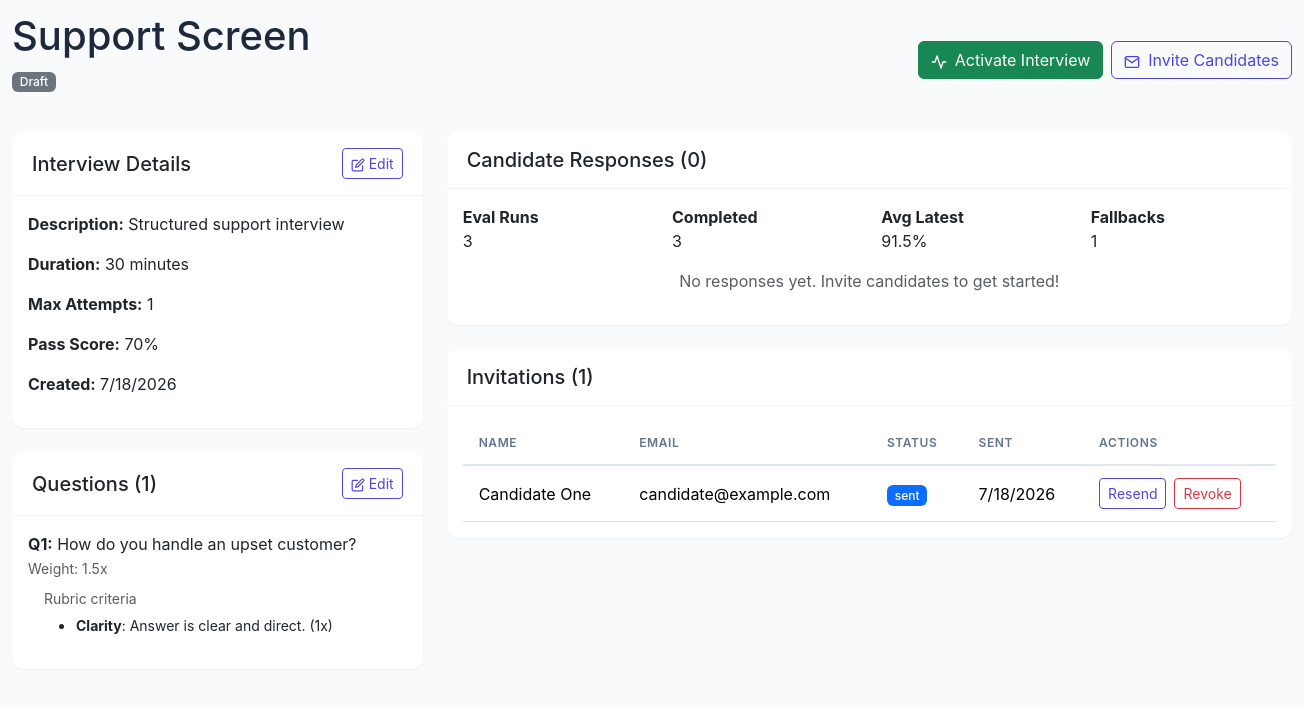
Test: InterviewDetail › updates draft interview details
Expected: the heading "Support Screen" is shown, [12,12,311,60]
Click the button "Edit" next to "Interview Details". click: {"x": 372, "y": 164}
box: [342,148,403,179]
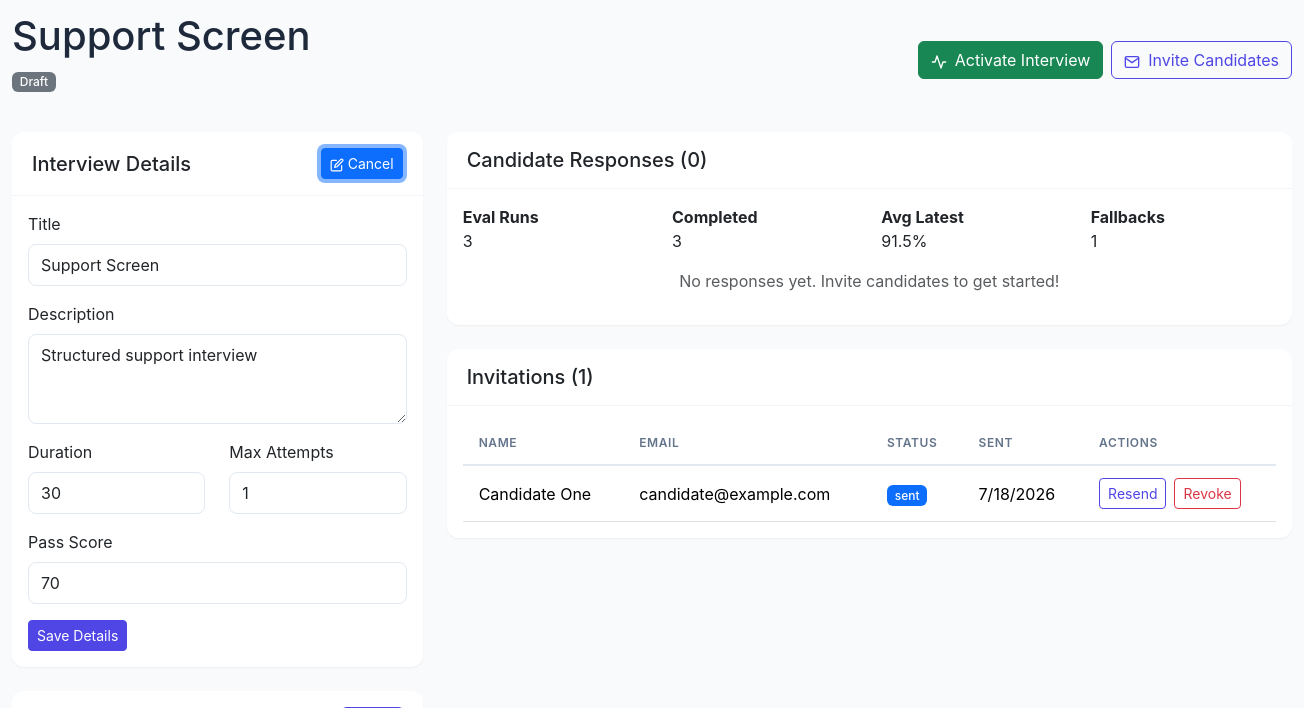
Replace the text in the field labelled "Title" with "Updated Support Screen". click: {"x": 217, "y": 265}
box: [28,244,407,286]
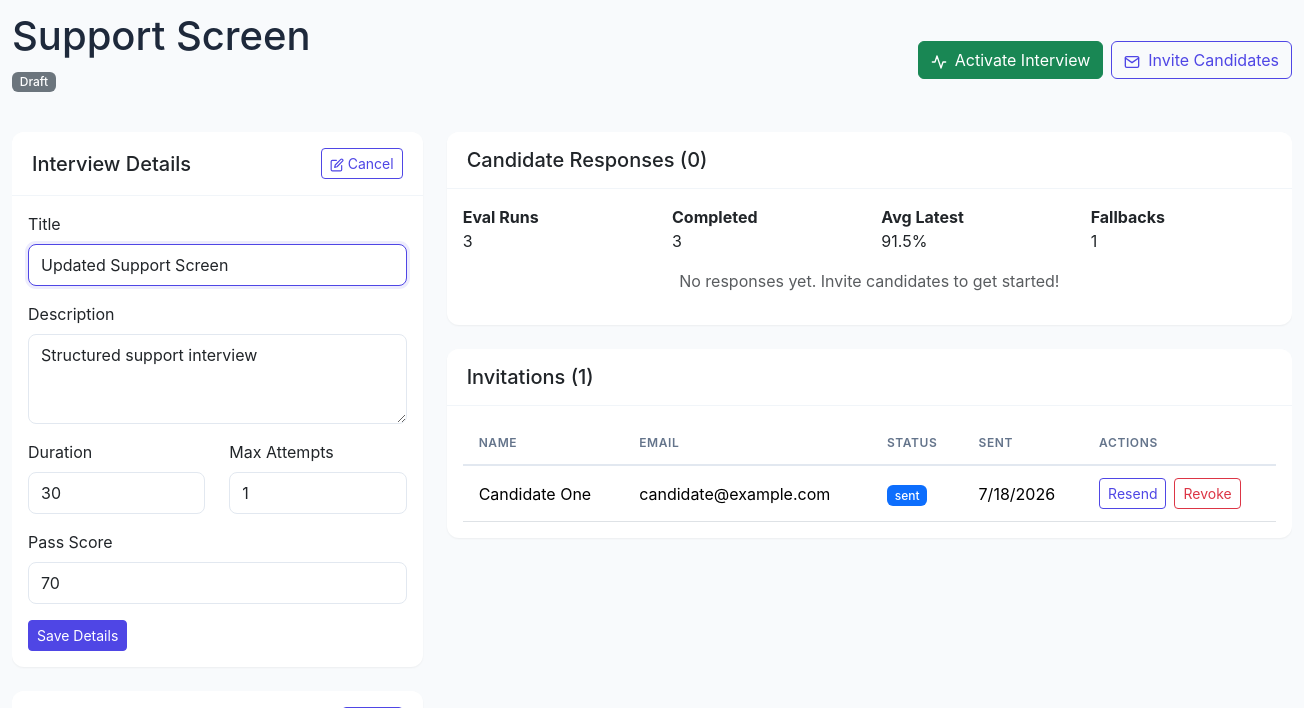
Replace the text in the number field labelled "Duration" with "45". click: {"x": 117, "y": 493}
box: [28,472,205,514]
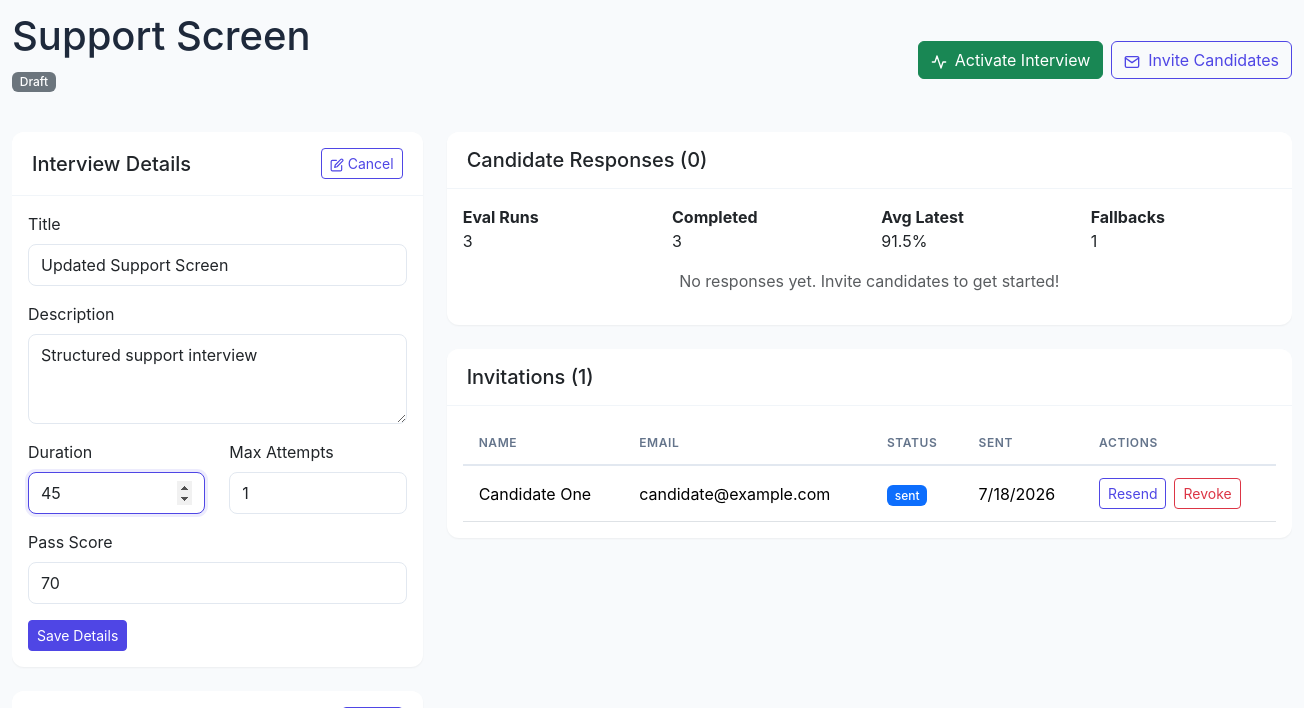
Replace the text in the number field labelled "Max Attempts" with "2". click: {"x": 318, "y": 493}
box: [229,472,407,514]
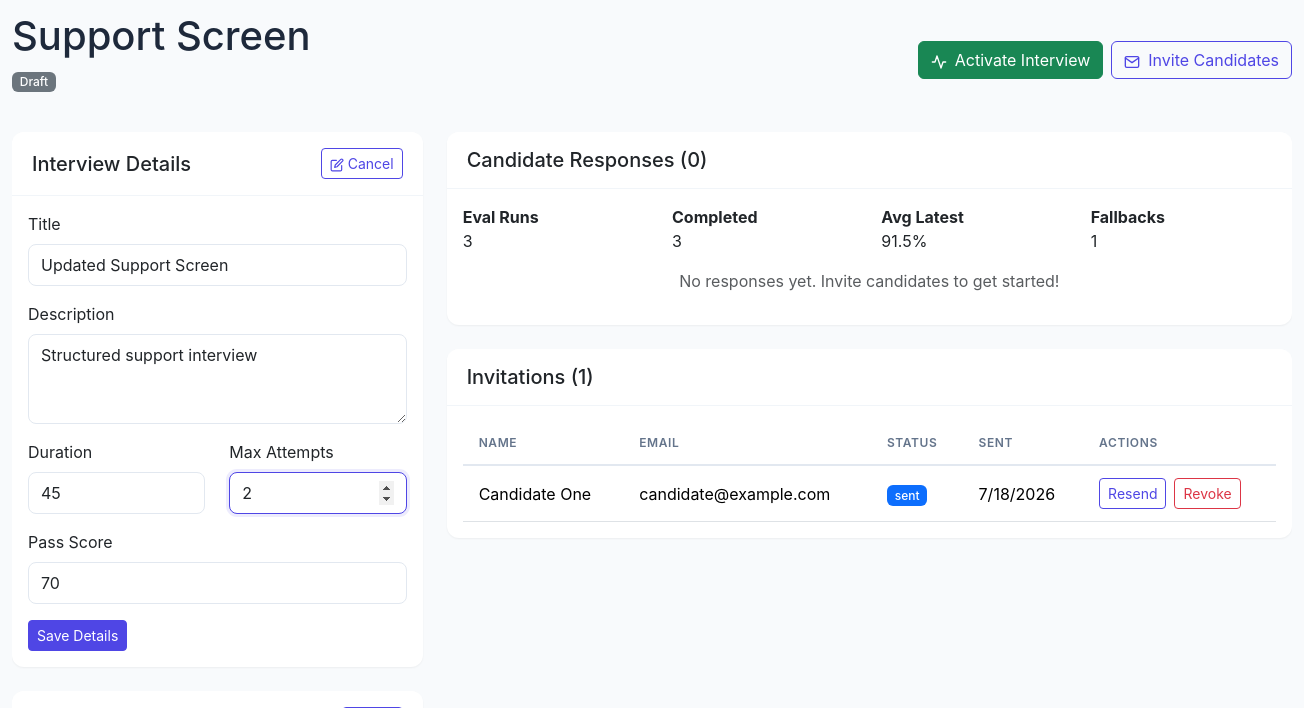
Replace the text in the number field labelled "Pass Score" with "75". click: {"x": 217, "y": 583}
box: [28,562,407,604]
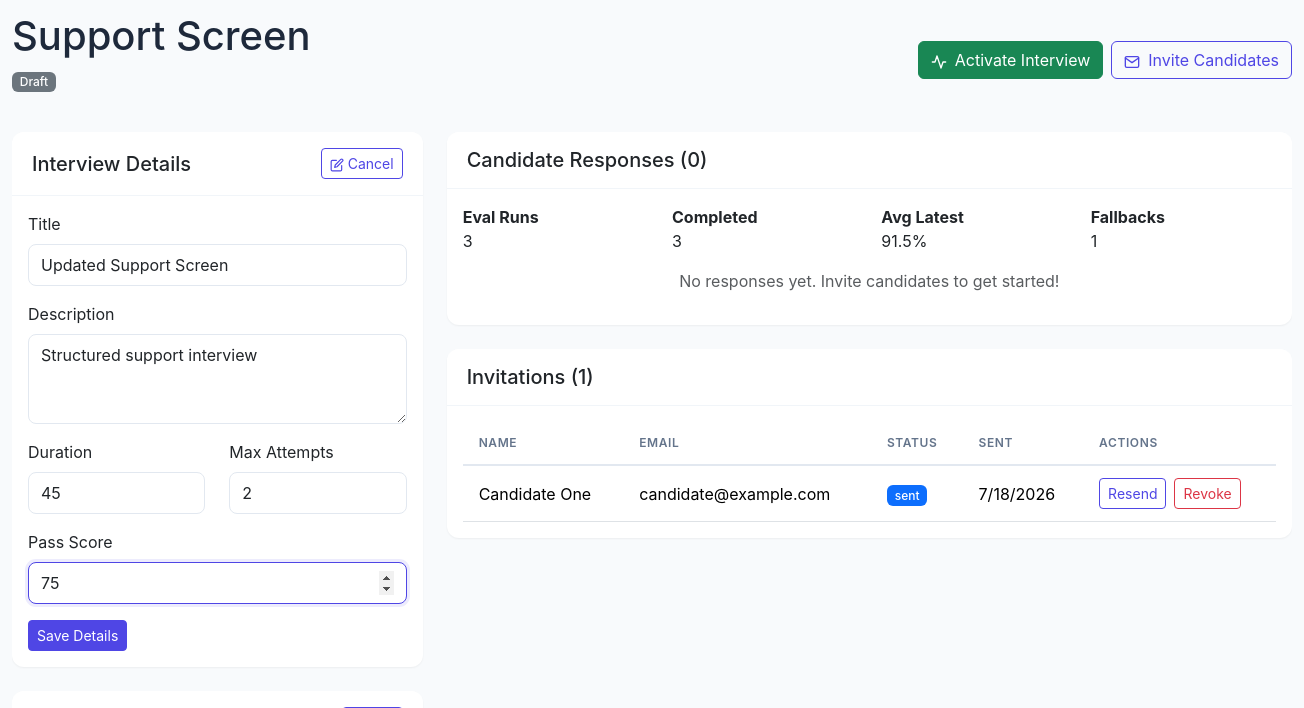
Click the button "Save Details". click: {"x": 78, "y": 636}
box: [28,620,127,651]
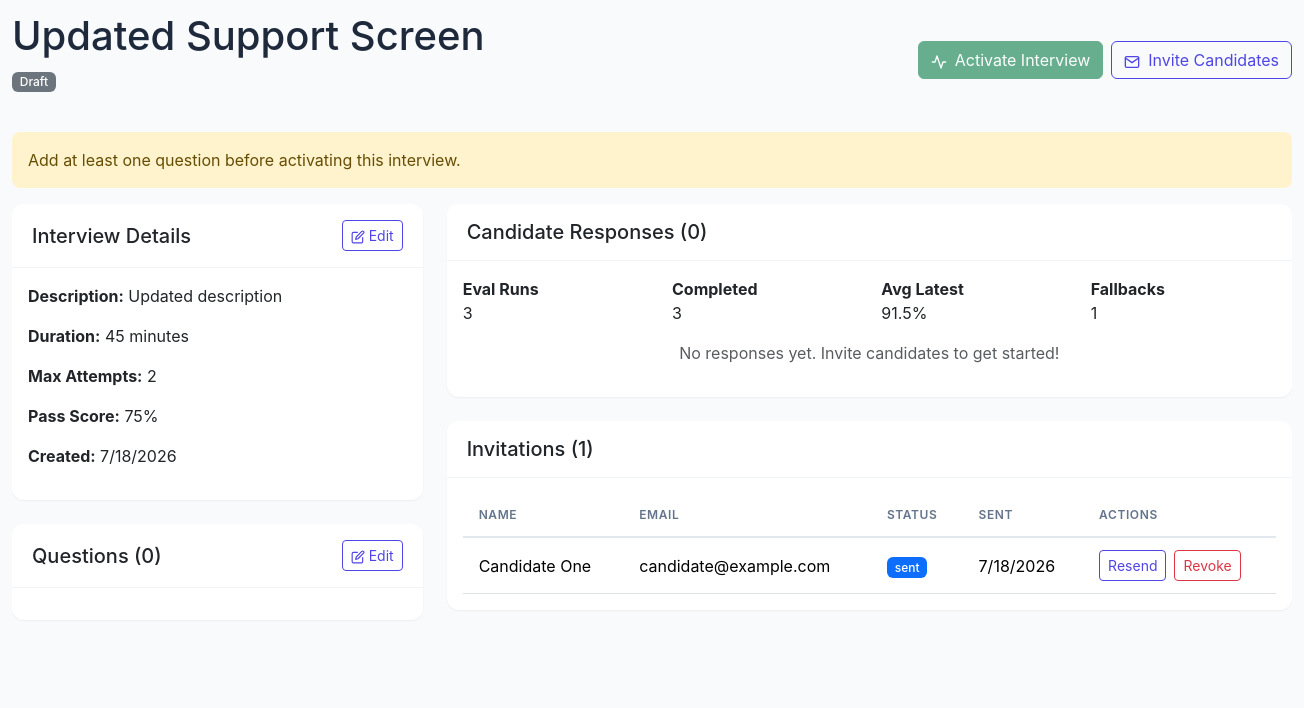
Result: the heading "Updated Support Screen" is shown at [12,12,484,60]
